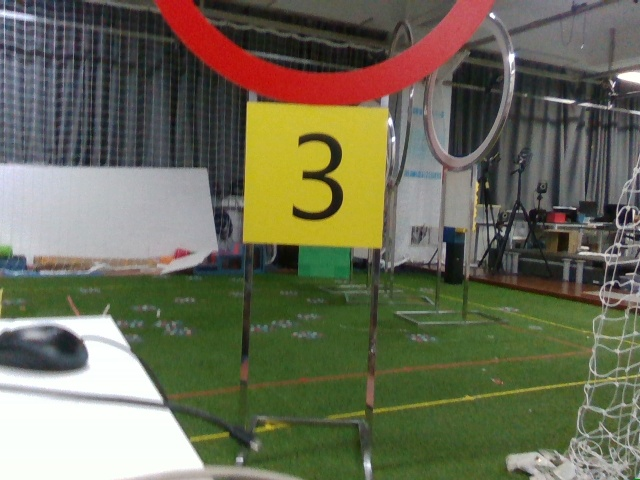target: (253, 108, 376, 241)
